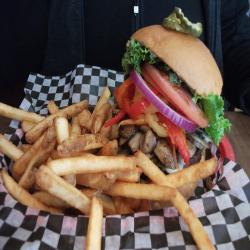burger: (116, 25, 225, 172)
fries: (15, 110, 145, 206)
